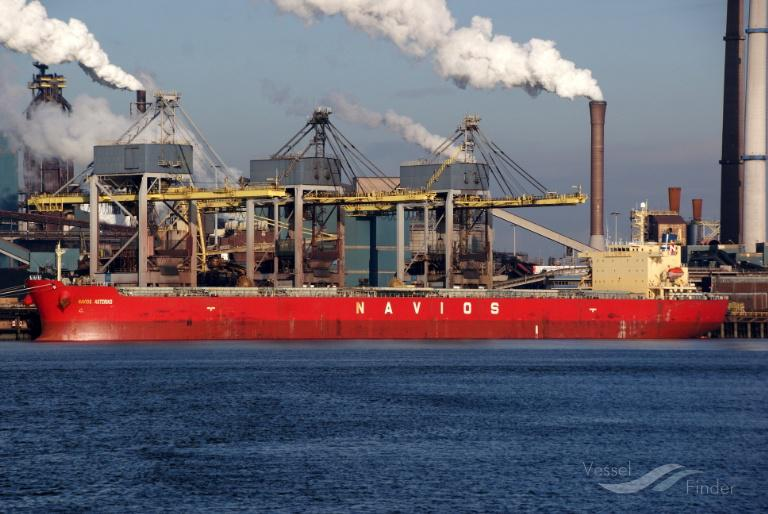OCR: (344, 296, 507, 324)
